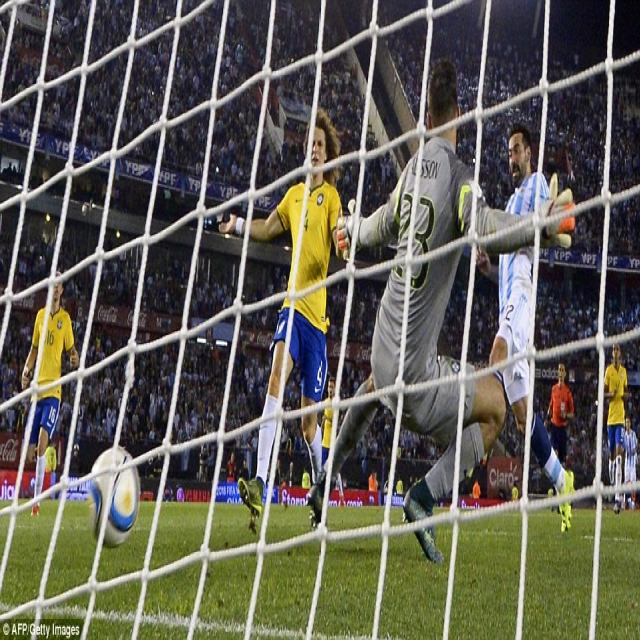body: (0, 0, 639, 489), (304, 51, 576, 568), (216, 108, 359, 539), (461, 117, 576, 535), (20, 260, 81, 520), (602, 340, 629, 516), (543, 359, 573, 468), (321, 376, 340, 469), (620, 415, 638, 509)
